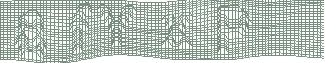8: (16, 8, 50, 63)
P: (216, 4, 251, 56)
Y: (96, 3, 139, 49)
f: (68, 2, 94, 57)
x: (159, 11, 194, 51)
